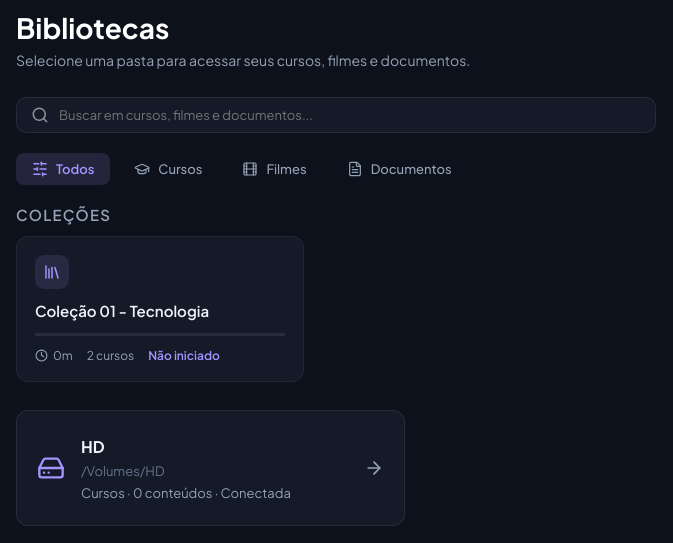
Test: LibraryView — detalhe da coleção › mostra a grid de cursos quando a coleção tem vários cursos
Click the heading "Coleção 01 - Tecnologia" at (122, 311), box x1=35 y1=301 x2=209 y2=321
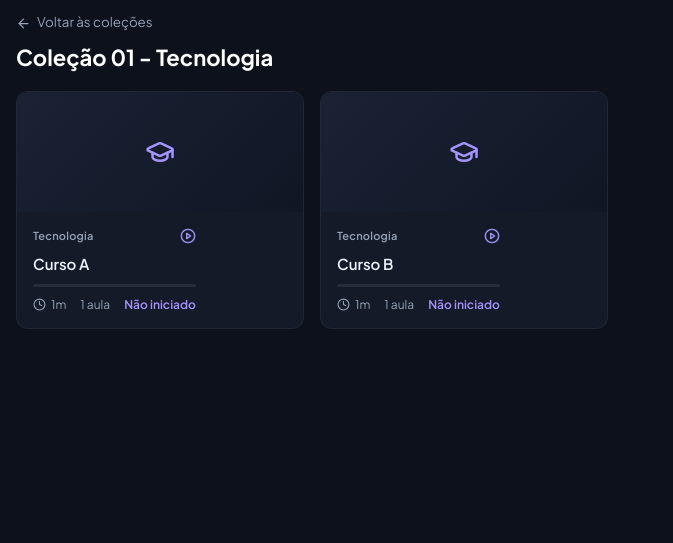
Now the heading "Curso A" is shown, box x1=33 y1=254 x2=89 y2=273
Now the heading "Curso B" is shown, box x1=337 y1=254 x2=393 y2=273
